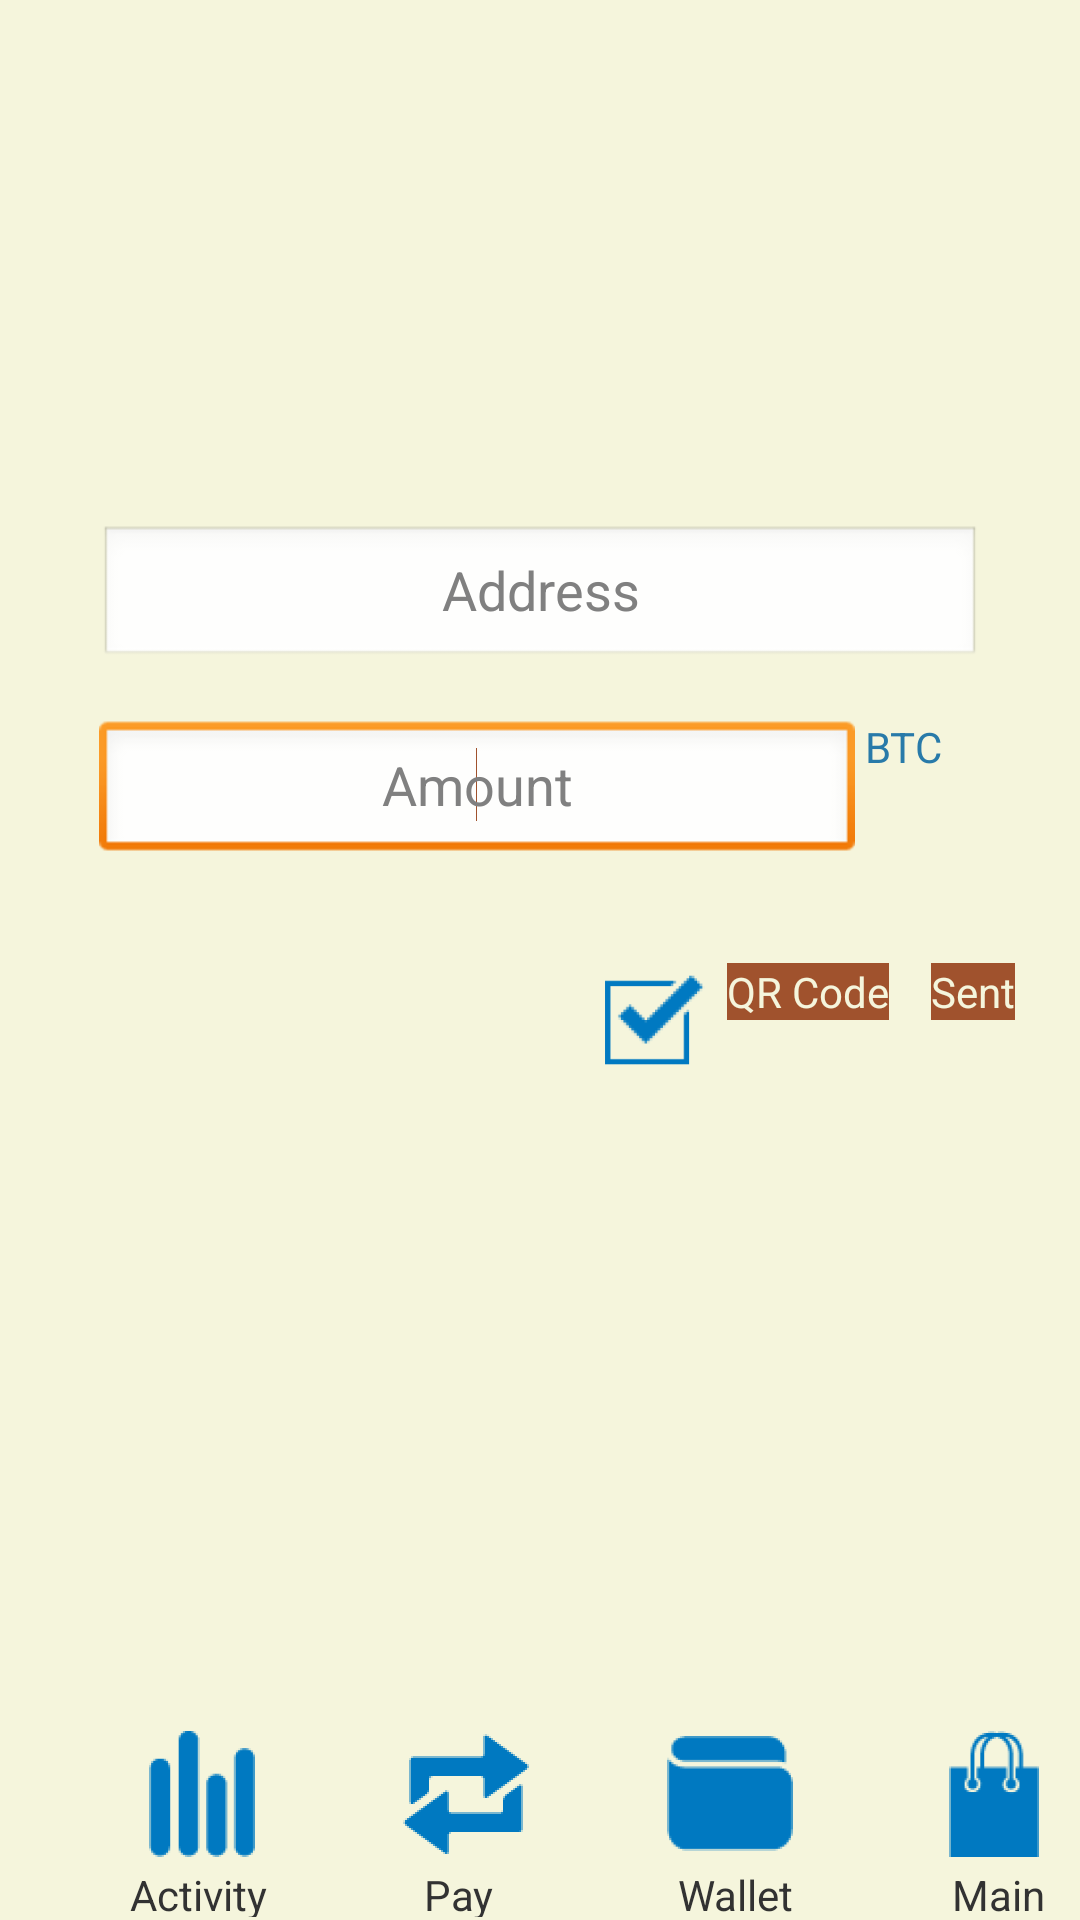

Screen size 1080 x 1920. Icon name, then its box in pixels as (x1, y1, x2, y2):
history: (149, 1731, 255, 1857)
transfer: (403, 1734, 529, 1854)
